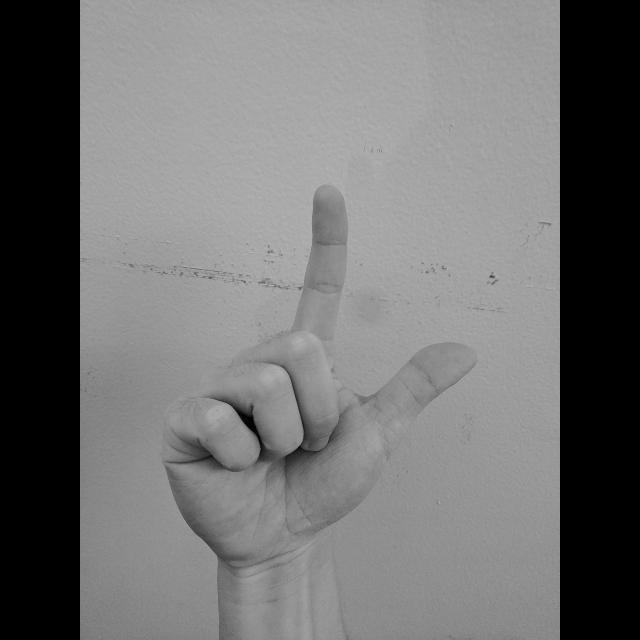L: (156, 177, 484, 577)
